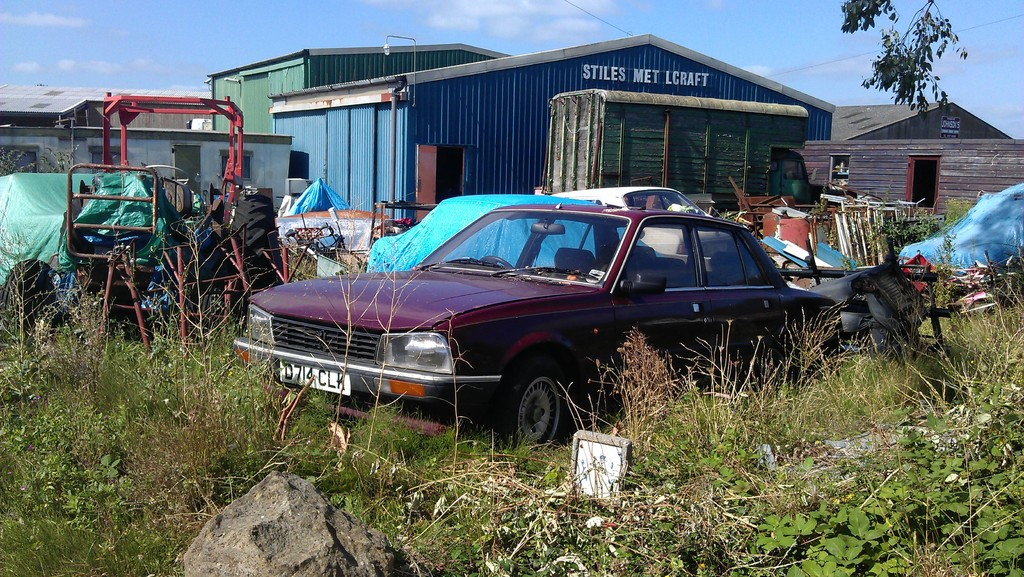Car: (218, 203, 832, 452), (362, 192, 655, 272), (549, 181, 746, 263), (890, 182, 1023, 297)
